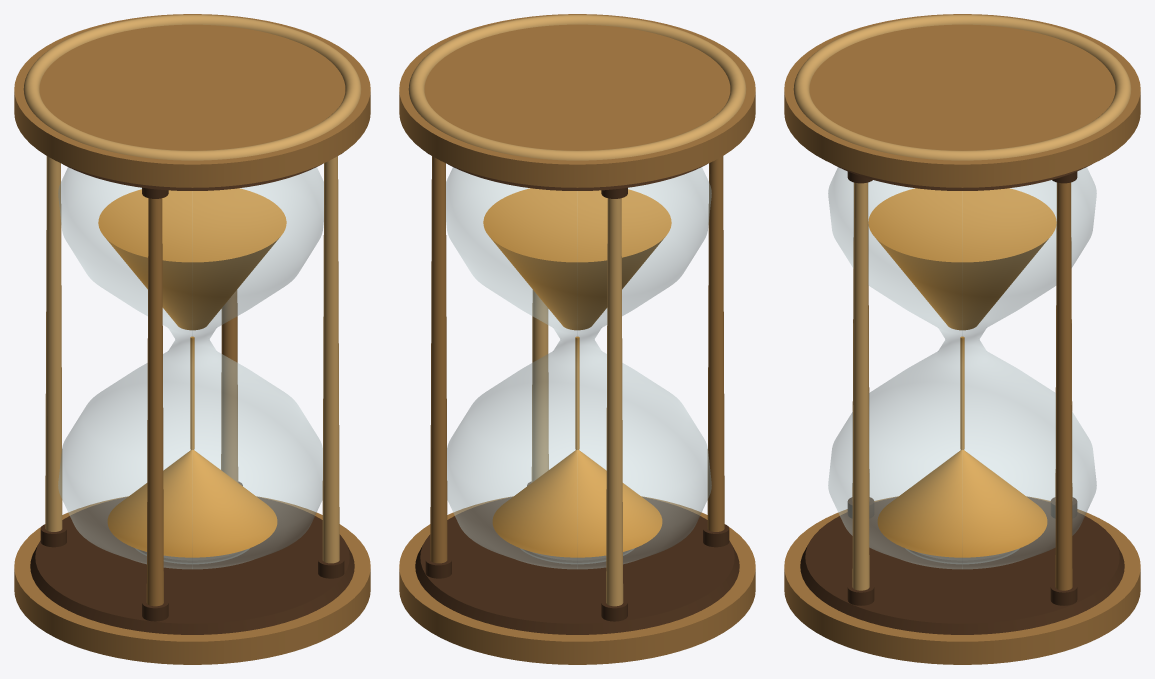
Rendered from midnight-hourglass.glb.
3 renders of one model, left to right at view 1: azimuth 30°, elevation 25°; view 2: azimuth 150°, elevation 25°; view 3: azimuth 270°, elevation 25°, orthographic.
Visible parts, largest first — view 1: Borosilicate_Vessel, Top_Plate, Bottom_Plate, Upper_Sand_Reservoir, Lower_Sand_Mound, Support_2, Support_1, Support_3, Support_4, Sand_Stream; view 2: Borosilicate_Vessel, Top_Plate, Bottom_Plate, Upper_Sand_Reservoir, Lower_Sand_Mound, Support_3, Support_4, Support_2, Support_1, Sand_Stream; view 3: Borosilicate_Vessel, Top_Plate, Bottom_Plate, Upper_Sand_Reservoir, Lower_Sand_Mound, Support_1, Support_4, Support_2, Support_3, Lower_Glass_Seal, Sand_Stream.
Boxes of the visible parts, x1,y1,x2,y2 form: Borosilicate_Vessel: [58, 167, 323, 569]; Top_Plate: [14, 14, 370, 190]; Bottom_Plate: [14, 496, 370, 664]; Upper_Sand_Reservoir: [98, 188, 286, 330]; Lower_Sand_Mound: [107, 450, 277, 557]; Support_2: [146, 198, 163, 606]; Support_1: [322, 156, 339, 563]; Support_3: [45, 156, 62, 531]; Support_4: [221, 290, 238, 482]; Sand_Stream: [190, 336, 194, 449]; Borosilicate_Vessel: [446, 167, 711, 569]; Top_Plate: [399, 14, 755, 190]; Bottom_Plate: [399, 496, 755, 664]; Upper_Sand_Reservoir: [483, 188, 671, 330]; Lower_Sand_Mound: [492, 450, 662, 557]; Support_3: [606, 198, 623, 606]; Support_4: [430, 156, 447, 563]; Support_2: [707, 156, 724, 531]; Support_1: [531, 290, 548, 482]; Sand_Stream: [575, 336, 579, 449]; Borosilicate_Vessel: [828, 167, 1096, 569]; Top_Plate: [784, 14, 1140, 190]; Bottom_Plate: [784, 496, 1140, 664]; Upper_Sand_Reservoir: [868, 188, 1056, 330]; Lower_Sand_Mound: [877, 450, 1047, 557]; Support_1: [852, 182, 869, 590]; Support_4: [1055, 182, 1072, 590]; Support_2: [852, 183, 869, 500]; Support_3: [1055, 183, 1072, 500]; Lower_Glass_Seal: [906, 549, 1018, 563]; Sand_Stream: [960, 336, 964, 449].
Size of the model in its own units: 3.9 by 6.18 by 3.9.
